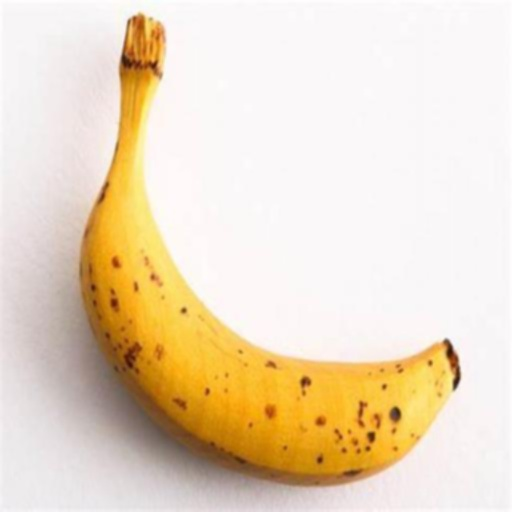fruit: (410, 162, 506, 512)
